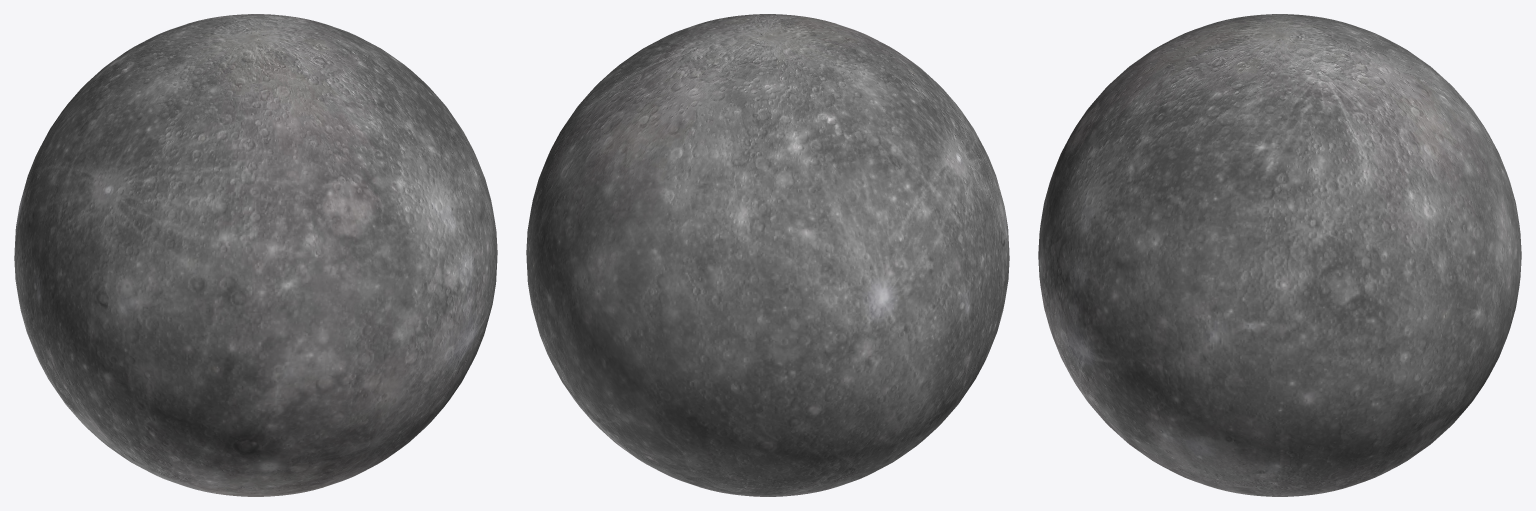
Rendered from centered_Mercury.glb.
The picture shows the model from 3 angles, left to right: view 1: azimuth 30°, elevation 25°; view 2: azimuth 150°, elevation 25°; view 3: azimuth 270°, elevation 25°; orthographic projection.
Visible parts, largest first — view 1: Mercury; view 2: Mercury; view 3: Mercury.
Boxes of the visible parts, x1,y1,x2,y2 form: Mercury: (14, 14, 497, 496); Mercury: (526, 14, 1009, 496); Mercury: (1038, 14, 1521, 496).
Bounding box in the file's own units: 13.92 × 13.92 × 13.92.
1 material, 1 textured.
